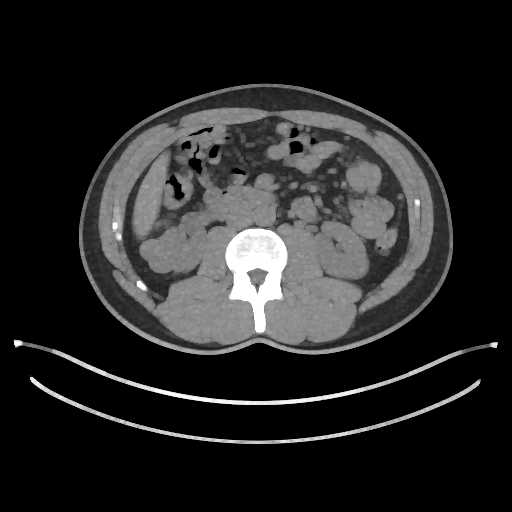Lesion: (136, 238, 162, 265)
